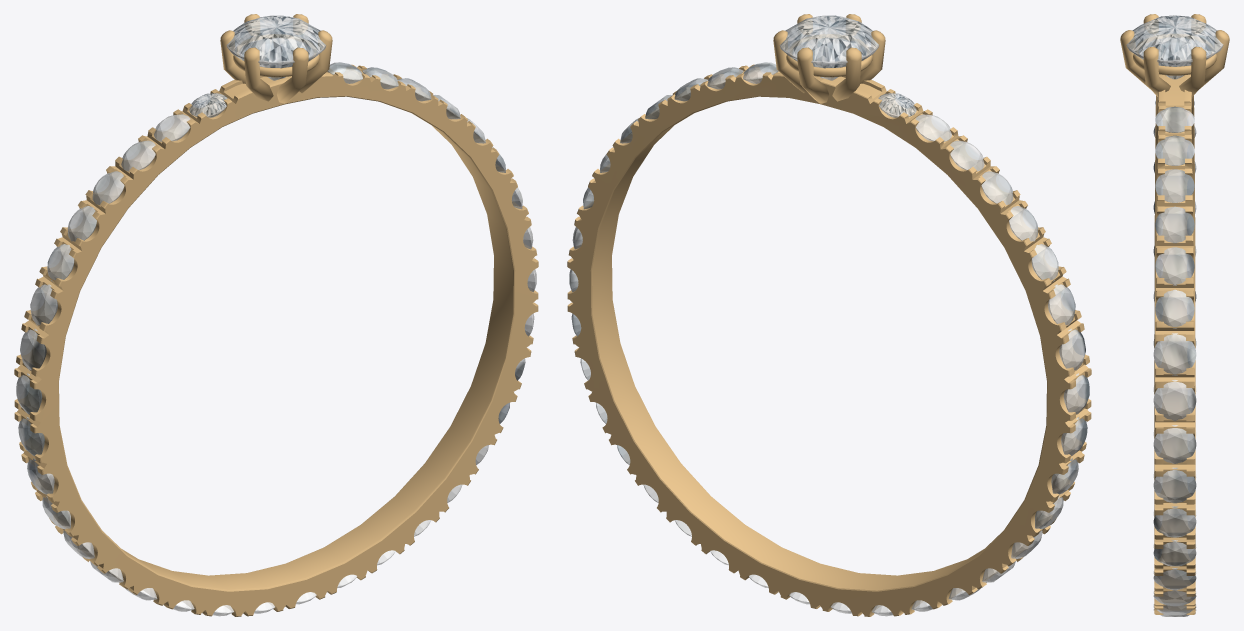
The model's file is Moissanite Ring.glb.
3 views of the same model, side by side, from view 1: azimuth 30°, elevation 25°; view 2: azimuth 150°, elevation 25°; view 3: azimuth 270°, elevation 25° (orthographic). The views are drawn at different scales.
Visible parts, largest first — view 1: MoissaniteDiamondRing; view 2: MoissaniteDiamondRing; view 3: MoissaniteDiamondRing.
Boxes of the visible parts, <box> form: MoissaniteDiamondRing: <box>14,14,538,616</box>; MoissaniteDiamondRing: <box>567,14,1091,616</box>; MoissaniteDiamondRing: <box>1120,14,1229,616</box>.
Size of the model in its own units: 17.48 by 18.96 by 3.34.
Materials: 2 (1 with a texture image).
